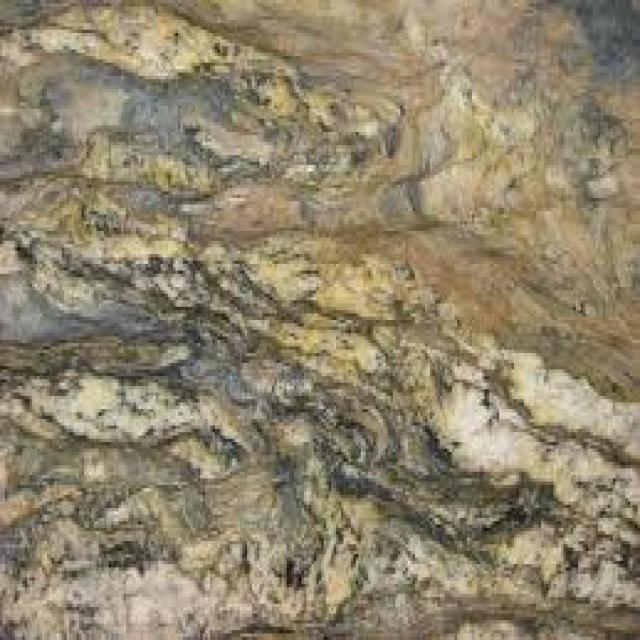Metamorphic: (10, 6, 635, 640)
